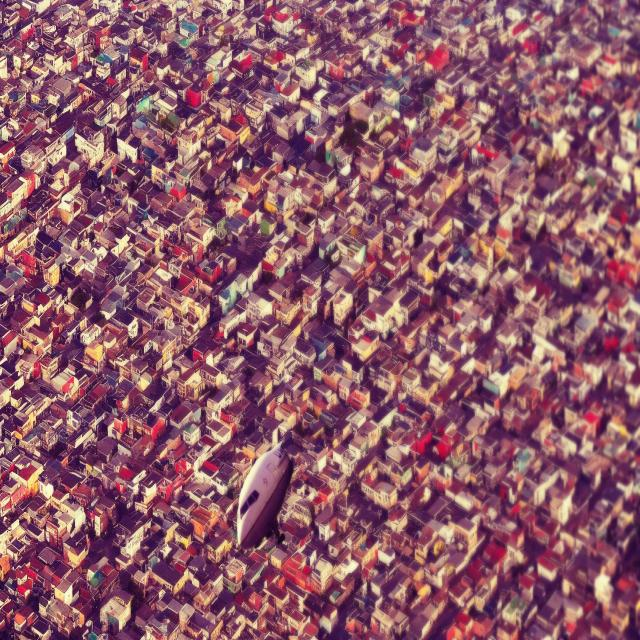airplane: (235, 440, 292, 548)
